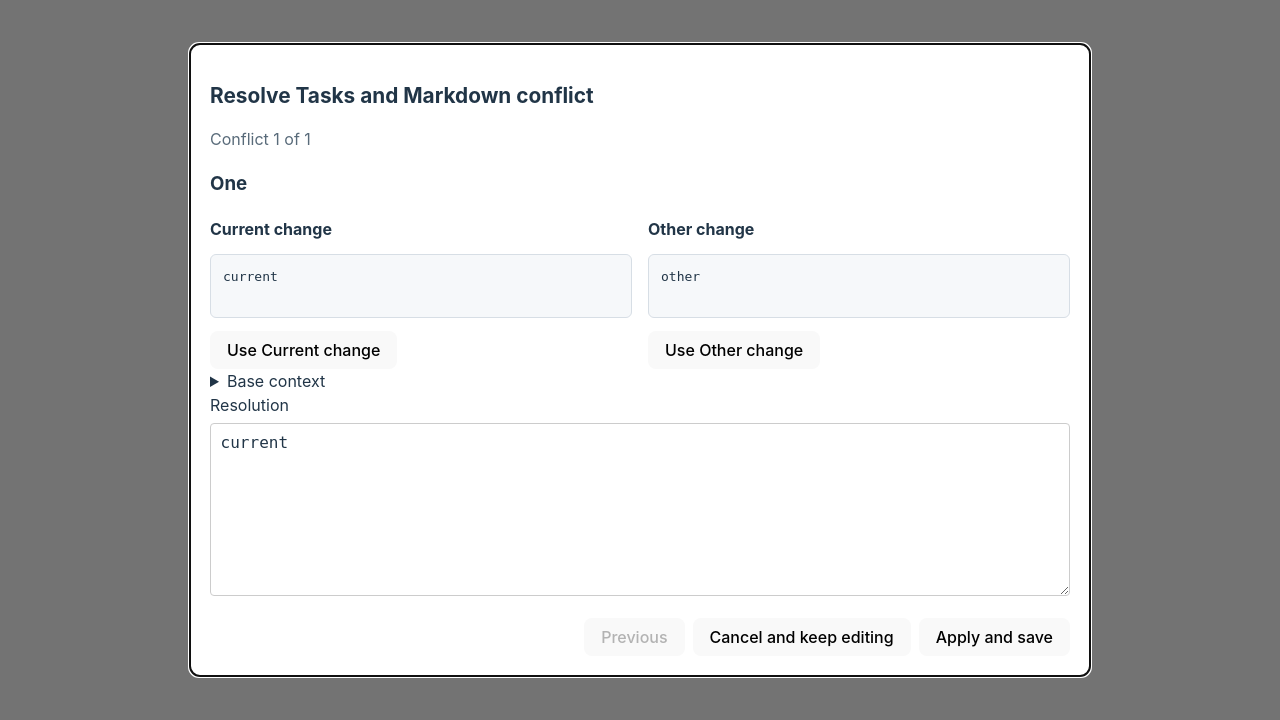
Scenario: ConflictResolutionDialog › keeps the dialog open when an edited resolution is invalid
Click the button "Use Current change".
click(304, 350)  # box [210,331,397,369]
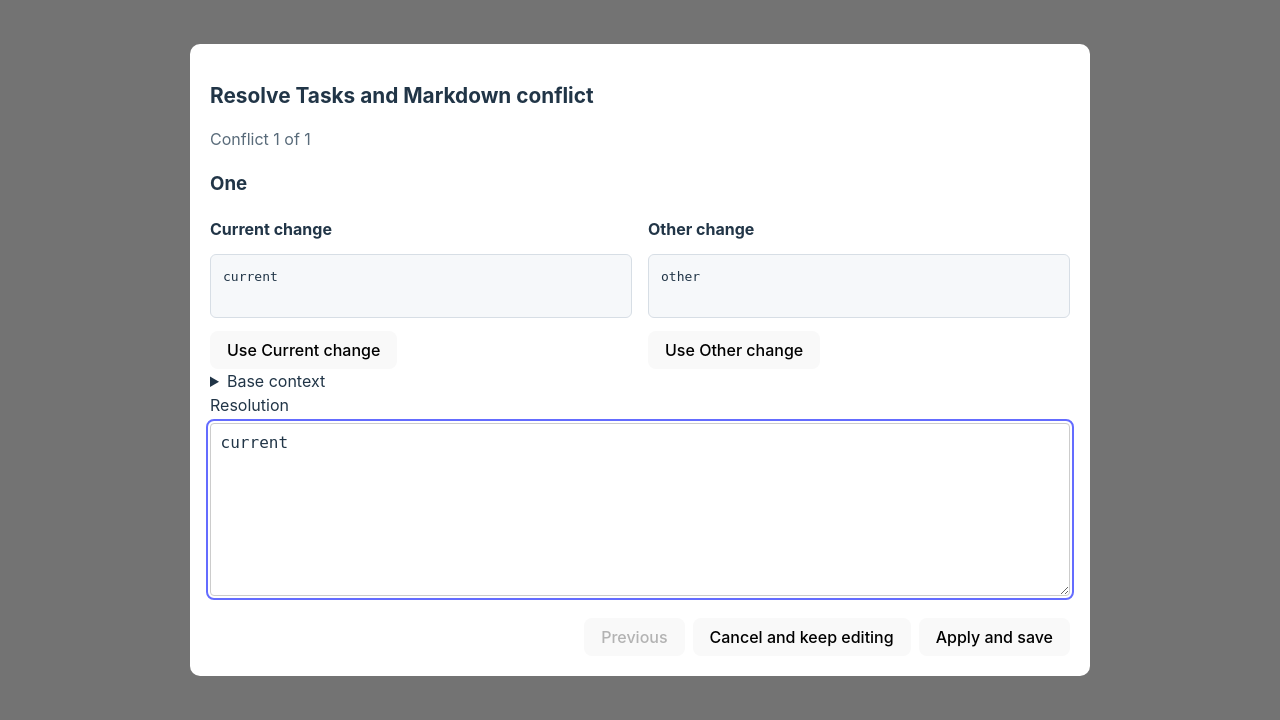
Click the button "Apply and save".
click(994, 637)  # box [919,618,1070,656]
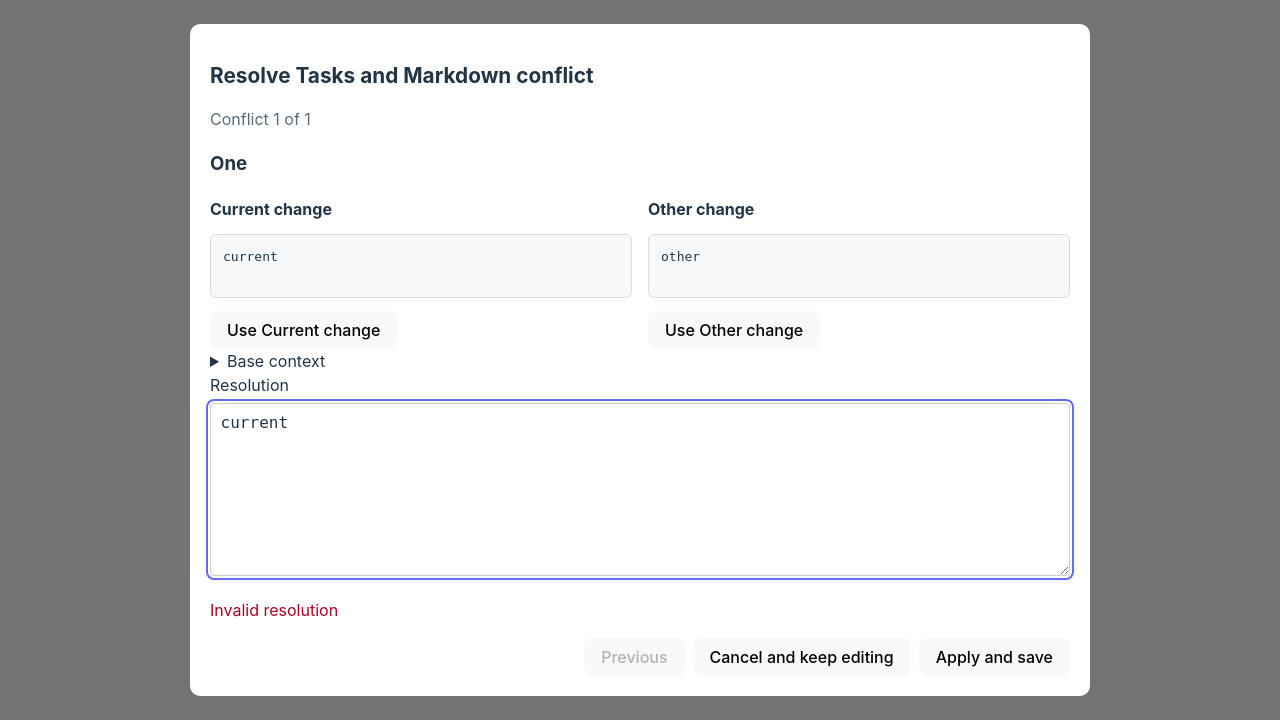
Expected: the message "Invalid resolution" is shown, [210,600,338,620]
